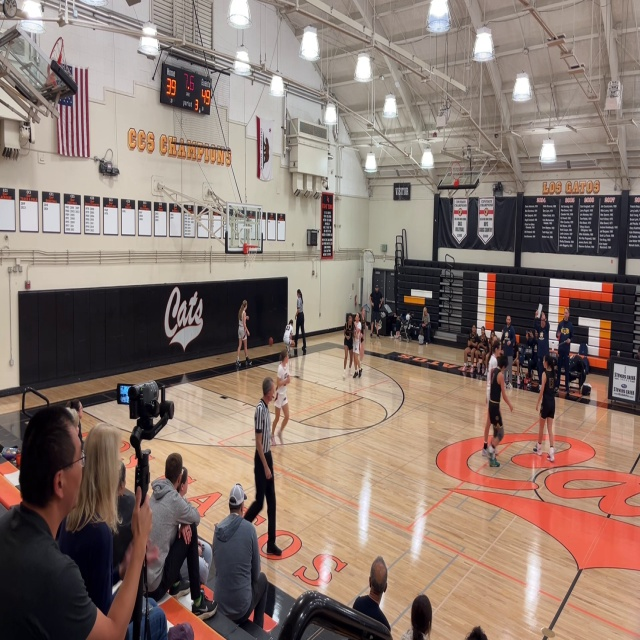Basketball: (268, 337, 273, 345)
